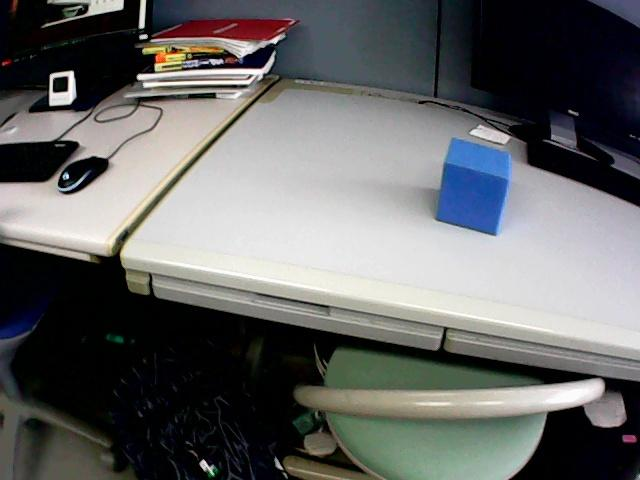blue_block: (437, 138, 511, 234)
